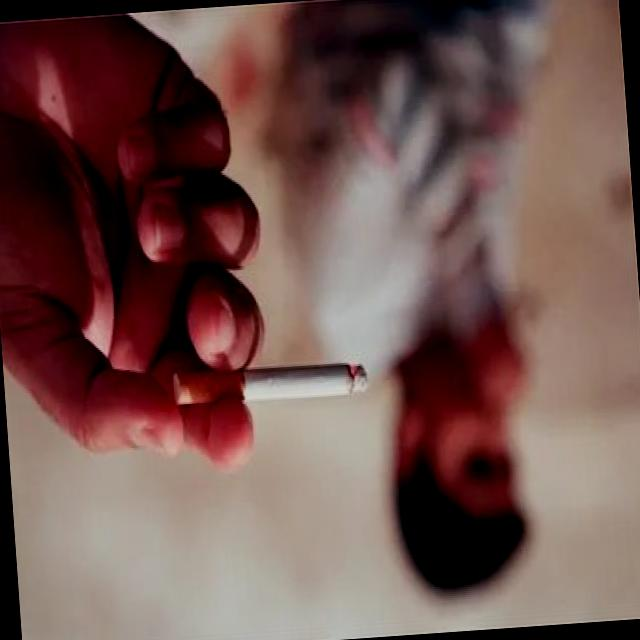smoke: (162, 354, 376, 415)
